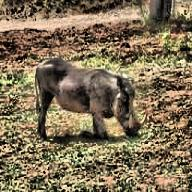boar: (34, 57, 146, 140)
